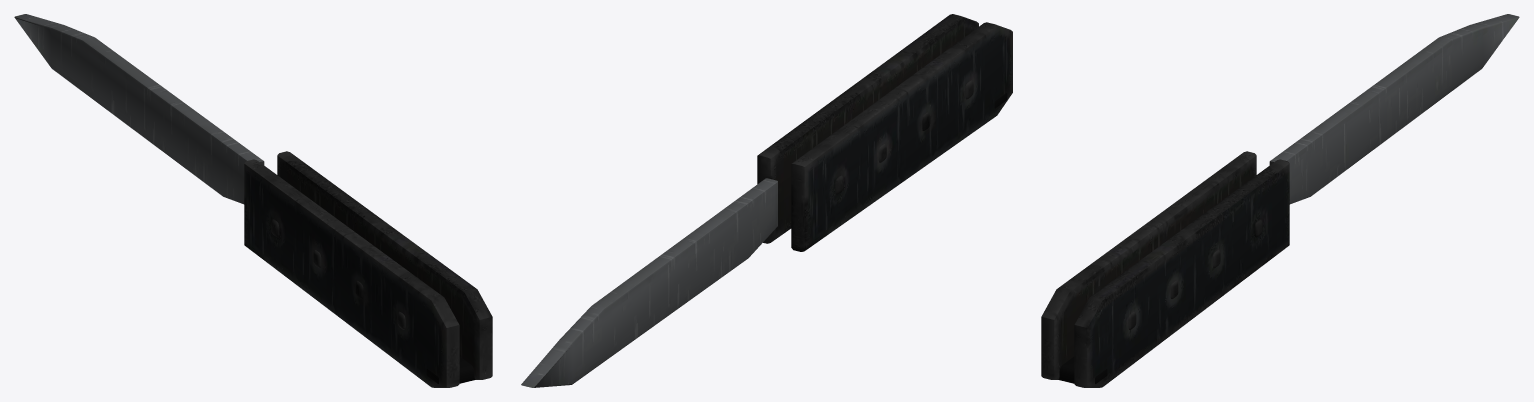
Rendered from knife_butterfly.glb.
The picture shows the model from 3 angles, left to right: view 1: azimuth 30°, elevation 25°; view 2: azimuth 150°, elevation 25°; view 3: azimuth 330°, elevation 25°; orthographic projection. The views are drawn at different scales.
Visible parts, largest first — view 1: body_receiver, body_metal; view 2: body_receiver; view 3: body_receiver, body_metal.
Boxes of the visible parts, bbox=[...] form: body_receiver: bbox=[14, 14, 492, 387]; body_metal: bbox=[426, 357, 475, 383]; body_receiver: bbox=[521, 14, 1012, 387]; body_receiver: bbox=[1041, 14, 1519, 387]; body_metal: bbox=[1058, 357, 1107, 383].
Bounding box in the file's own units: 0.0215 × 0.035 × 0.3205.
Materials: 2 (2 with a texture image).
